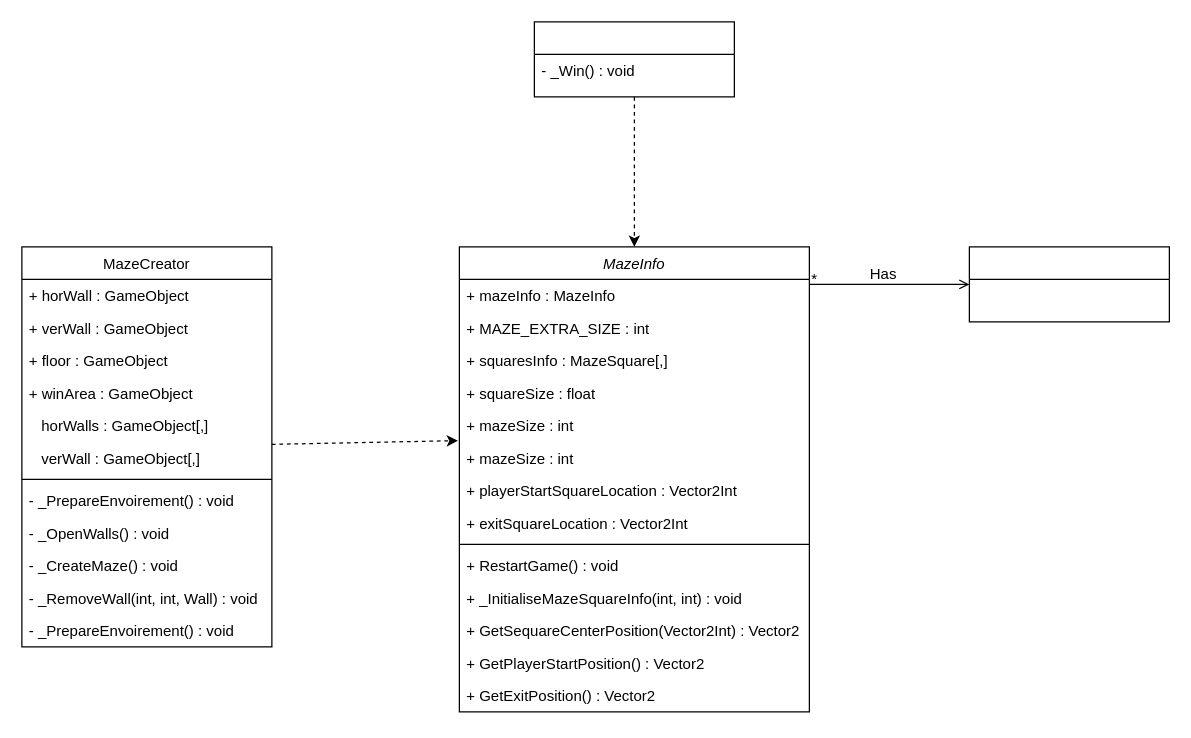
The diagram is 1191 pixels wide and 738 high, and some of its shapes have lost their labels. Each missing label, with the box of its shape:
MazeSquare: (968, 246, 1169, 322)
WinAreaController: (533, 21, 734, 97)
